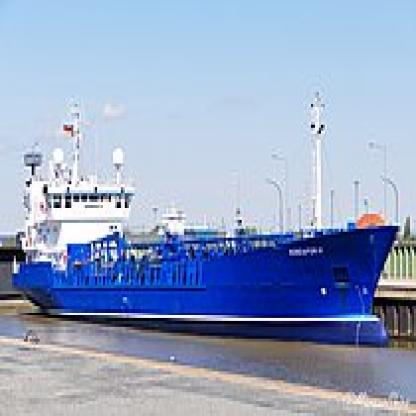Tanker: (20, 137, 370, 333)
